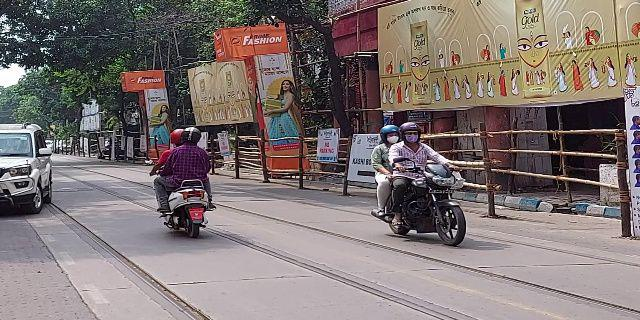Car: (1, 116, 57, 211)
Motorbike: (364, 121, 472, 252), (150, 121, 216, 237)
